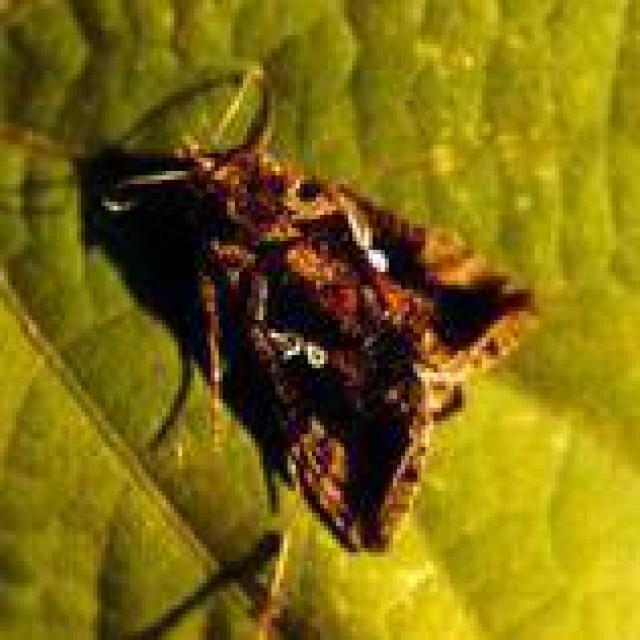armyworm: (173, 110, 508, 529)
